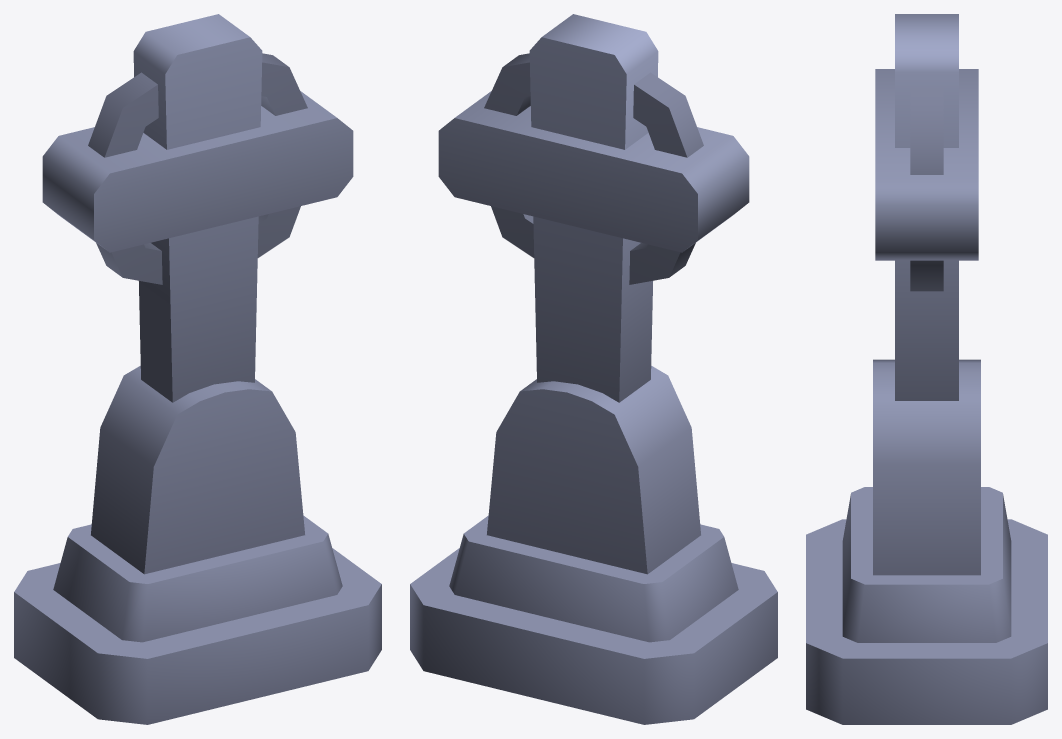
Rendered from K_gravestone-cross-large.glb.
3 views of the same model, side by side, from view 1: azimuth 30°, elevation 25°; view 2: azimuth 150°, elevation 25°; view 3: azimuth 270°, elevation 25° (orthographic).
Parts seen in each view (by area): view 1: gravestone-cross-large; view 2: gravestone-cross-large; view 3: gravestone-cross-large.
Part boxes in pixels (x1,y1,x2,y2): gravestone-cross-large: (14, 14, 381, 724); gravestone-cross-large: (410, 14, 777, 724); gravestone-cross-large: (806, 14, 1047, 724).
Size of the model in its own units: 0.45 by 0.9383 by 0.33.
